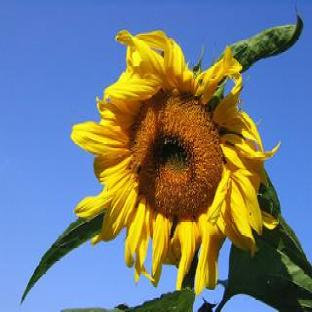sunflower: (70, 31, 281, 296)
